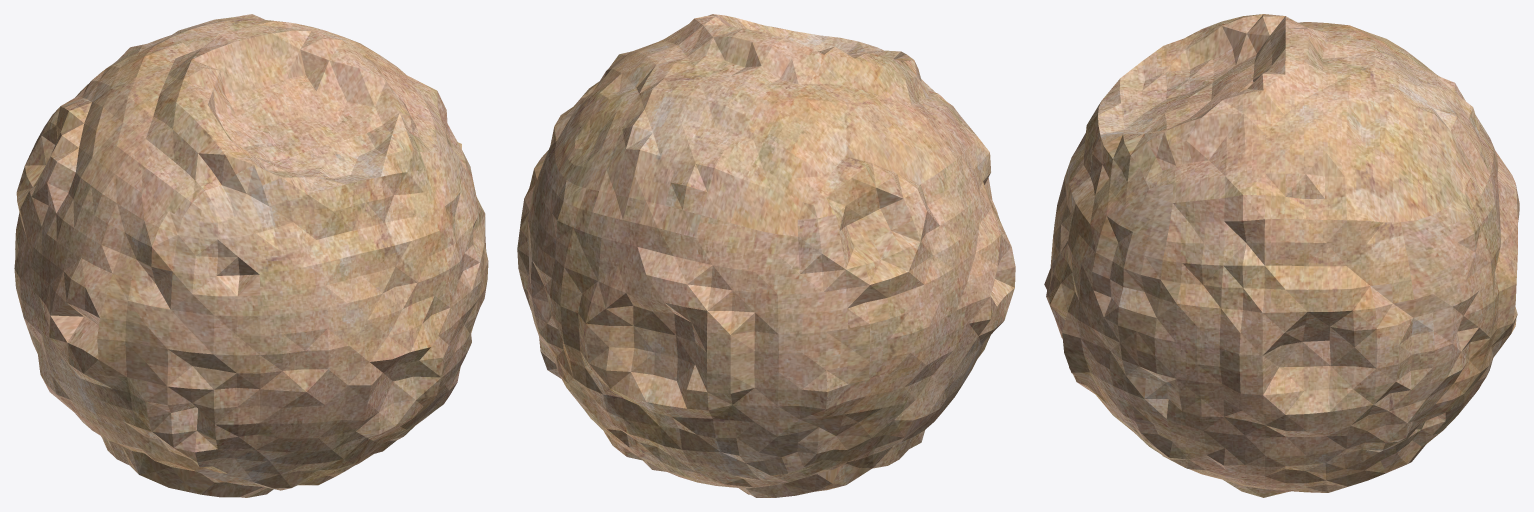
Rendered from FileSelectDataPlanet_bake.dae.
The picture shows the model from 3 angles, left to right: view 1: azimuth 30°, elevation 25°; view 2: azimuth 150°, elevation 25°; view 3: azimuth 270°, elevation 25°; orthographic projection.
Visible parts, largest first — view 1: m0; view 2: m0; view 3: m0.
Part boxes in pixels (x1,y1,x2,y2): m0: (14,14,488,497); m0: (517,14,1015,497); m0: (1044,14,1519,497).
Bounding box in the file's own units: 65.41 × 64.5 × 64.15.
2 materials, 2 textured.
